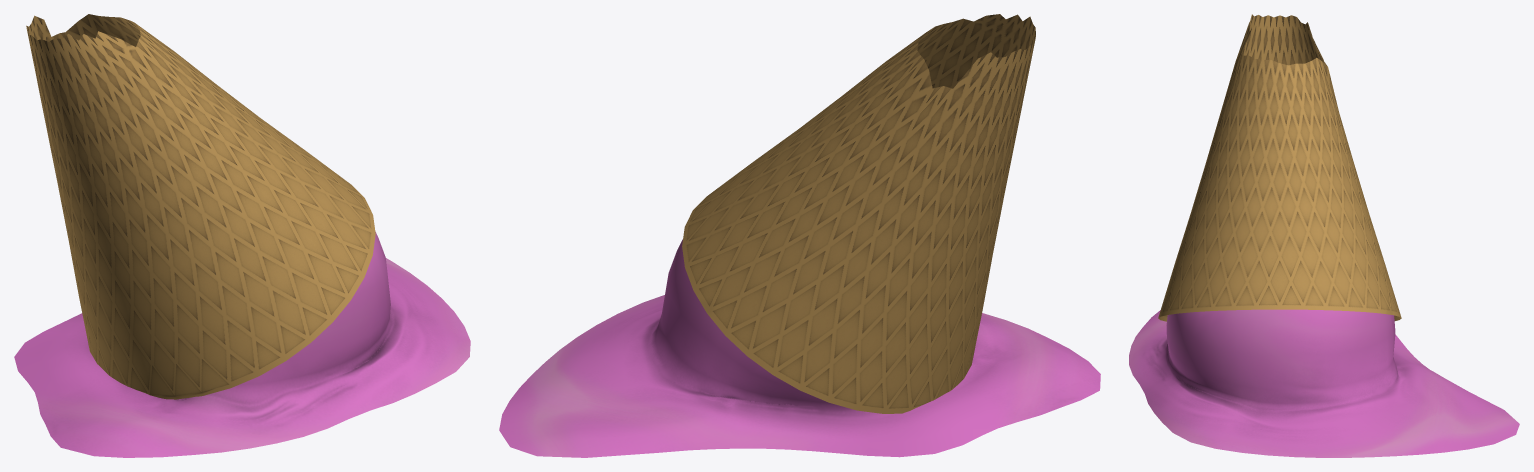
The model's file is Helado.FBX.
3 views of the same model, side by side, from view 1: azimuth 30°, elevation 25°; view 2: azimuth 150°, elevation 25°; view 3: azimuth 270°, elevation 25° (orthographic). The views are drawn at different scales.
Visible parts, largest first — view 1: Cone002, Group14751; view 2: Cone002, Group14751; view 3: Cone002, Group14751.
Boxes of the visible parts, left/top/right/bottom form: Cone002: left=26, top=14, right=375, bottom=399; Group14751: left=14, top=231, right=470, bottom=457; Cone002: left=682, top=14, right=1035, bottom=413; Group14751: left=499, top=239, right=1100, bottom=457; Cone002: left=1158, top=14, right=1401, bottom=321; Group14751: left=1129, top=309, right=1519, bottom=457.
Size of the model in its own units: 1445 by 1197 by 1446.
